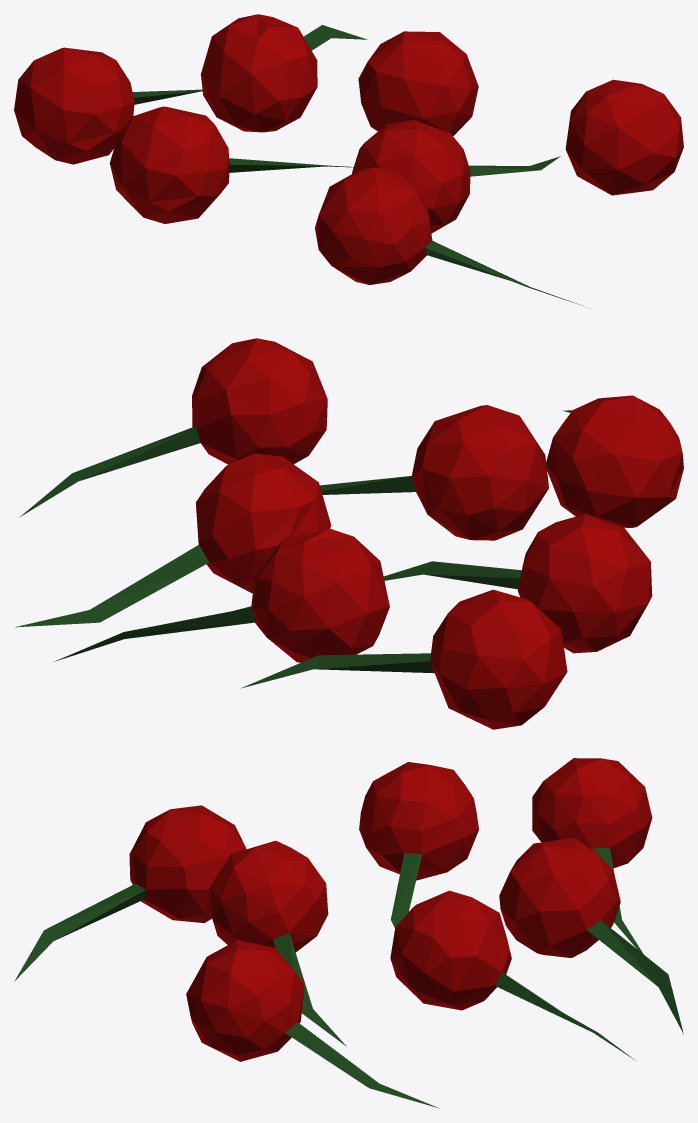
File: Berrie(Pickup).fbx
3 renders of one model, top to bottom at view 1: azimuth 30°, elevation 25°; view 2: azimuth 150°, elevation 25°; view 3: azimuth 270°, elevation 25°, orthographic. The views are drawn at different scales.
Visible parts, largest first — view 1: Berrie_Pickup_; view 2: Berrie_Pickup_; view 3: Berrie_Pickup_.
Part boxes in pixels (left/top/right/bottom): Berrie_Pickup_: left=14, top=14, right=683, bottom=307; Berrie_Pickup_: left=15, top=338, right=683, bottom=729; Berrie_Pickup_: left=14, top=758, right=683, bottom=1108.
Bounding box in the file's own units: 44.81 × 8.47 × 47.86.
